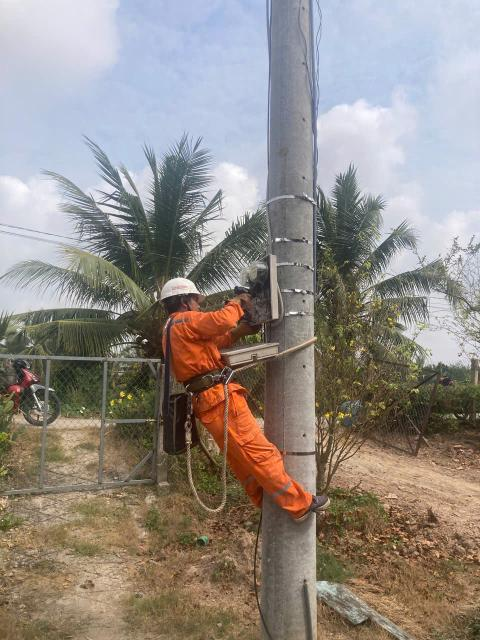gloves: (226, 287, 262, 316)
harness: (168, 357, 252, 396)
helmet: (145, 274, 211, 304)
shoes: (285, 486, 341, 525)
